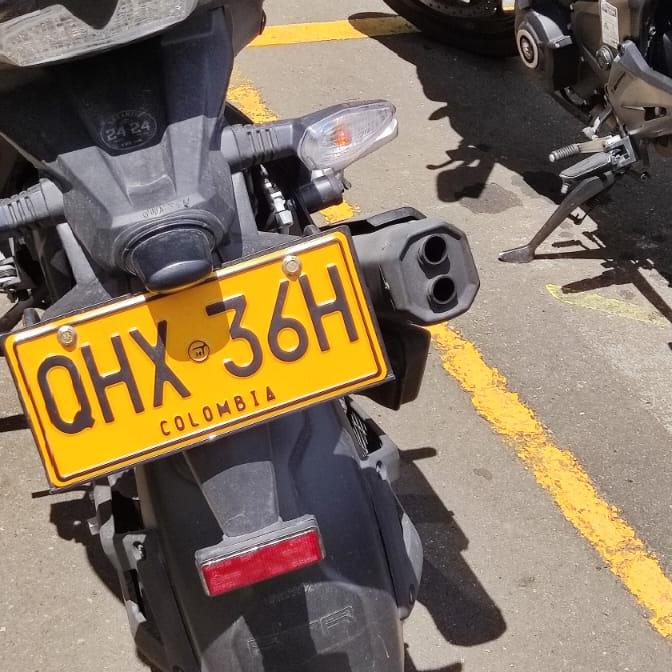plates: (4, 232, 389, 490)
